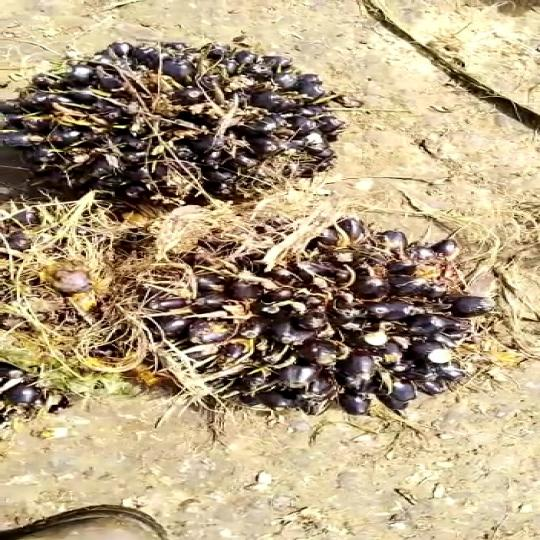mentah: (130, 205, 500, 408), (0, 24, 375, 211), (0, 208, 197, 404)
